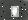person: (12, 7, 20, 18)
